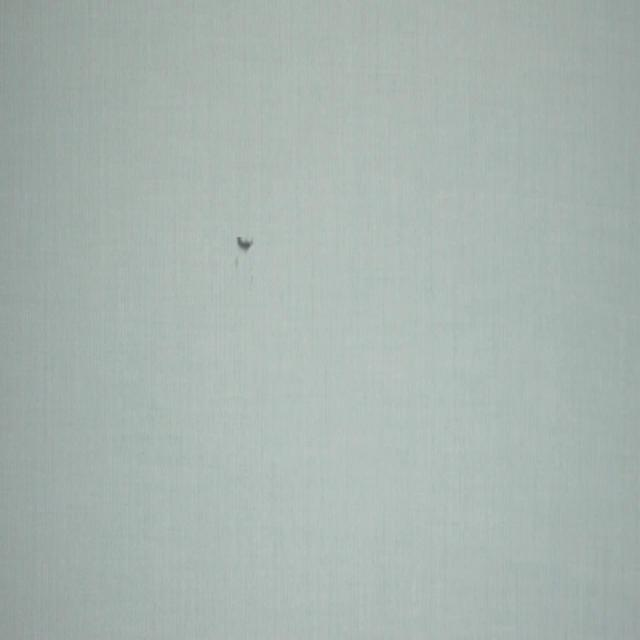dirty: (236, 236, 254, 252), (234, 257, 238, 267)
